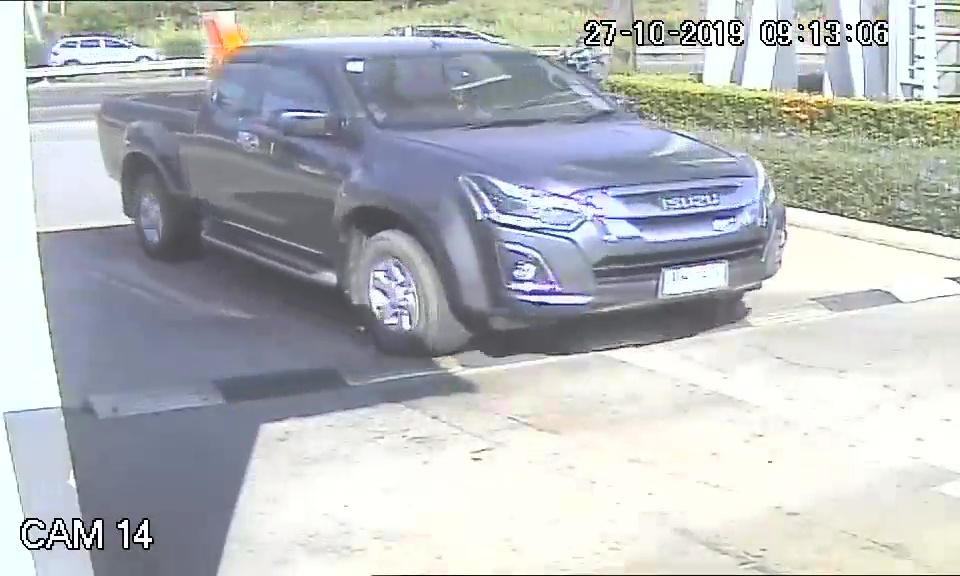pickup: (96, 35, 790, 358)
